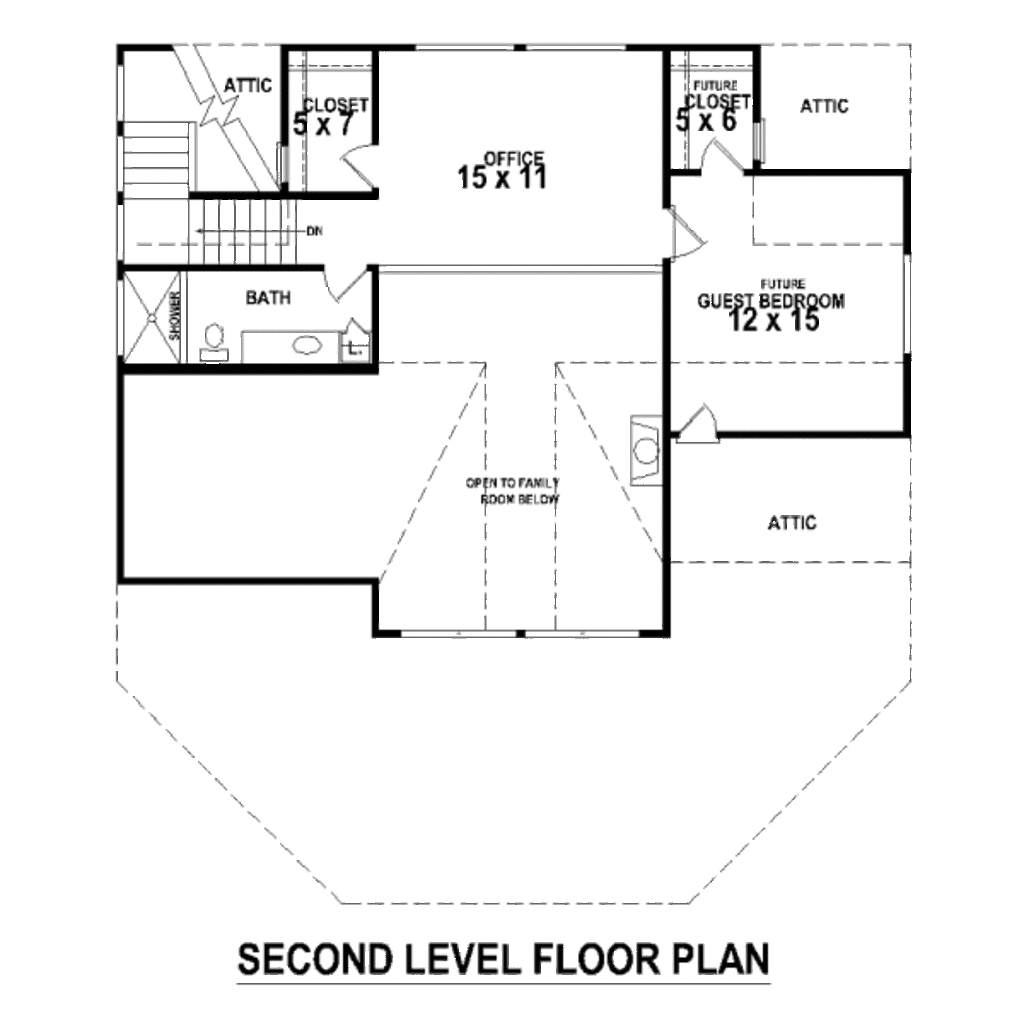door: (336, 133, 395, 192), (308, 252, 370, 308), (666, 203, 713, 260), (675, 399, 725, 450), (695, 133, 748, 178)
large_sink: (195, 311, 242, 369)
small_sink: (242, 324, 334, 366)
stairs: (120, 111, 320, 266)
window: (414, 36, 514, 57), (902, 249, 919, 360), (408, 627, 513, 641), (527, 38, 622, 52)
